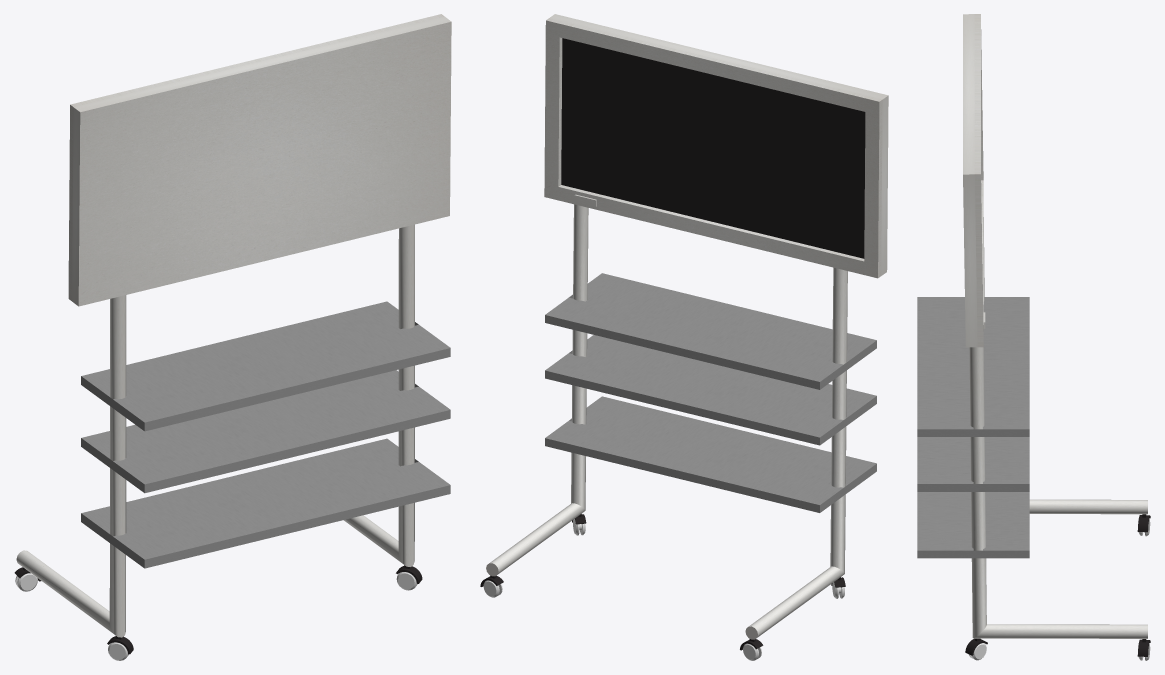
3 renders of one model, left to right at view 1: azimuth 30°, elevation 25°; view 2: azimuth 150°, elevation 25°; view 3: azimuth 270°, elevation 25°, orthographic. The views are drawn at different scales.
Parts seen in each view (by area): view 1: Box001, Box003, Box005, Box004, Line001, Line002; view 2: Box002, Box001, Box005, Box003, Box004, Line001, Line002; view 3: Box005, Box003, Box001, Line002, Box004, Line001.
Boxes of the visible parts, <box> form: Box001: <box>68,14,451,306</box>; Box003: <box>81,438,450,568</box>; Box005: <box>81,301,450,431</box>; Box004: <box>81,370,450,493</box>; Line001: <box>16,295,126,637</box>; Line002: <box>343,224,414,566</box>; Box002: <box>561,38,865,258</box>; Box001: <box>544,14,888,278</box>; Box005: <box>545,273,876,389</box>; Box003: <box>545,396,876,512</box>; Box004: <box>545,335,876,445</box>; Line001: <box>745,267,847,639</box>; Line002: <box>486,204,588,576</box>; Box005: <box>917,297,1029,436</box>; Box003: <box>917,492,1029,558</box>; Box001: <box>963,14,985,347</box>; Line002: <box>969,342,1147,638</box>; Box004: <box>917,437,1029,491</box>; Line001: <box>983,217,1147,514</box>.
Bounding box in the file's own units: 78.93 × 115 × 48.56.
3 materials, 3 textured.
